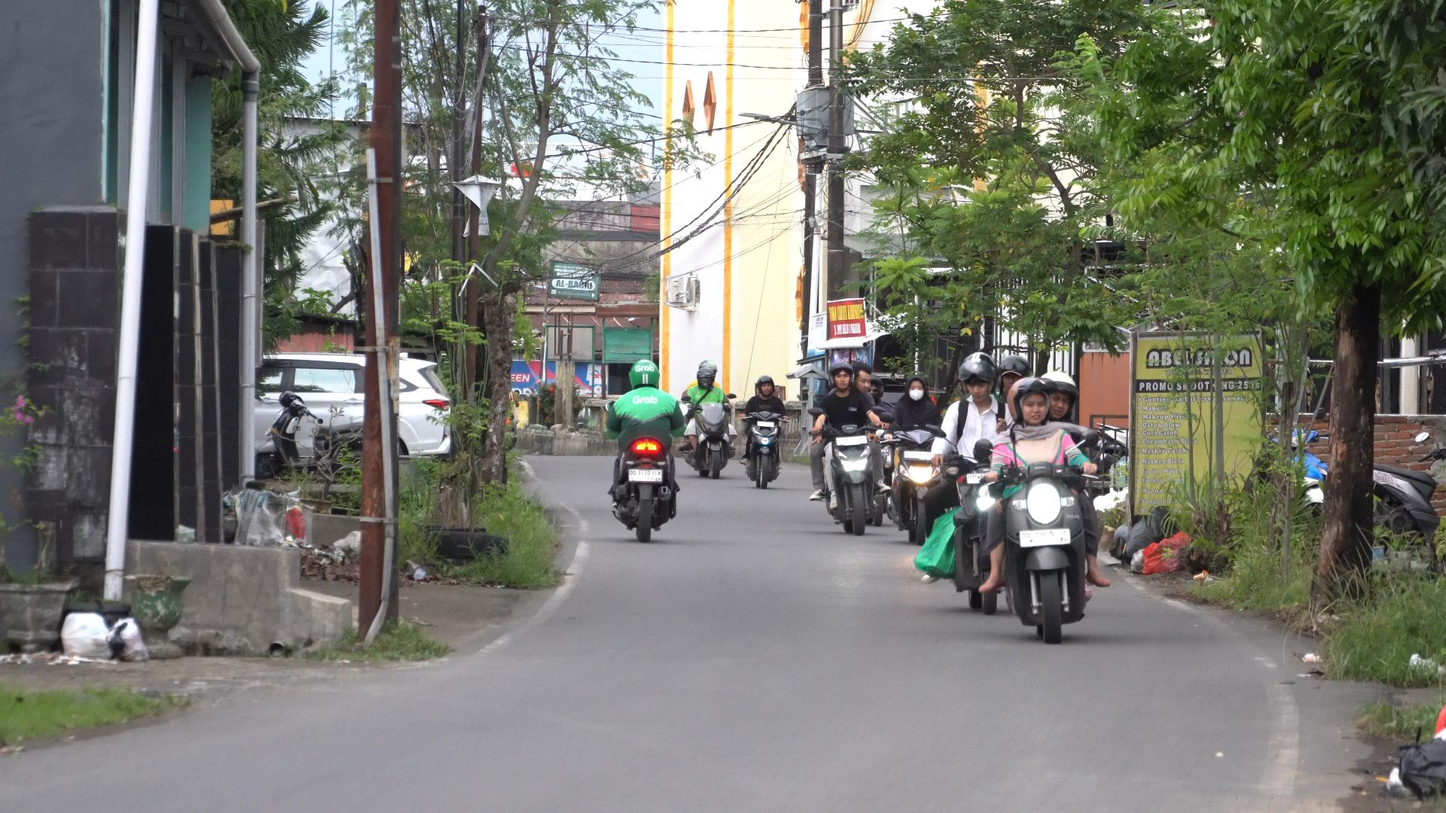number-plate: (1021, 526, 1069, 547)
